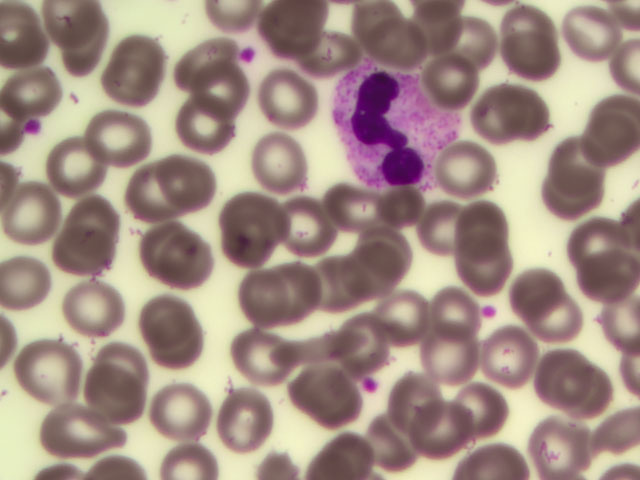Platelets: (24, 118, 55, 140), (360, 375, 382, 393), (240, 47, 263, 64), (477, 304, 500, 320)
RBC: (51, 220, 115, 280), (64, 189, 128, 249), (111, 168, 175, 228), (148, 150, 212, 210), (171, 100, 235, 160), (196, 62, 260, 122), (172, 36, 236, 96), (260, 70, 324, 130), (294, 22, 358, 82), (262, 2, 326, 62), (247, 133, 311, 193), (213, 190, 277, 250), (148, 234, 212, 294), (136, 289, 200, 349), (145, 310, 209, 370), (78, 363, 142, 423), (90, 327, 154, 387), (61, 277, 125, 337), (21, 336, 85, 396), (42, 405, 106, 465), (156, 379, 220, 439), (211, 385, 275, 445), (229, 331, 293, 391), (330, 307, 394, 367), (281, 365, 345, 425), (231, 267, 295, 327), (257, 261, 321, 321), (304, 254, 368, 314), (351, 234, 415, 294), (328, 187, 392, 247), (288, 194, 352, 254), (372, 182, 436, 242), (403, 189, 467, 249), (451, 195, 515, 255), (459, 243, 523, 303), (442, 140, 506, 200), (484, 82, 548, 142), (426, 52, 490, 112), (443, 17, 507, 77), (368, 9, 432, 69), (496, 29, 560, 89), (497, 10, 561, 70), (559, 8, 623, 68), (576, 109, 640, 169), (544, 132, 608, 192), (539, 162, 603, 222), (568, 207, 632, 267), (576, 251, 640, 311), (536, 293, 600, 353), (507, 269, 571, 329), (483, 327, 547, 387), (414, 326, 478, 386), (414, 274, 478, 334), (381, 279, 445, 339), (378, 367, 442, 427), (357, 407, 421, 467), (414, 400, 478, 460), (445, 378, 509, 438), (536, 420, 600, 480), (526, 348, 590, 408), (568, 363, 632, 423), (104, 23, 171, 79), (99, 64, 166, 120), (85, 103, 152, 159), (48, 139, 115, 195), (1, 184, 67, 240), (40, 1, 107, 56)
WBC: (321, 61, 452, 188)
